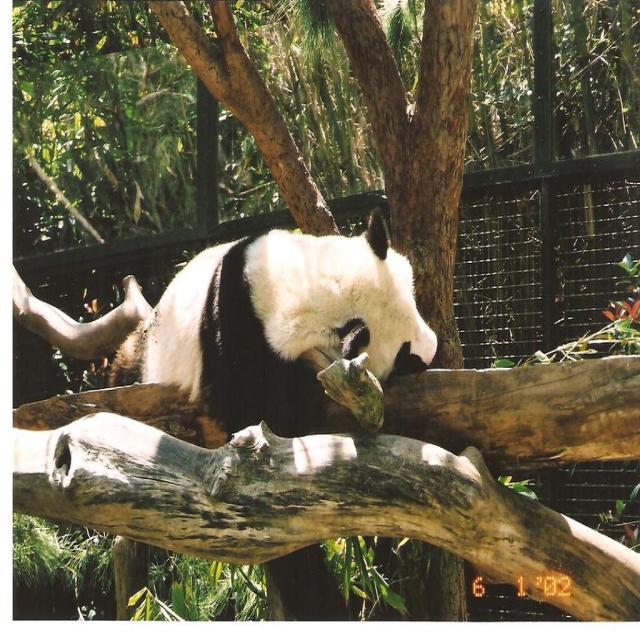panda: (106, 210, 434, 438)
